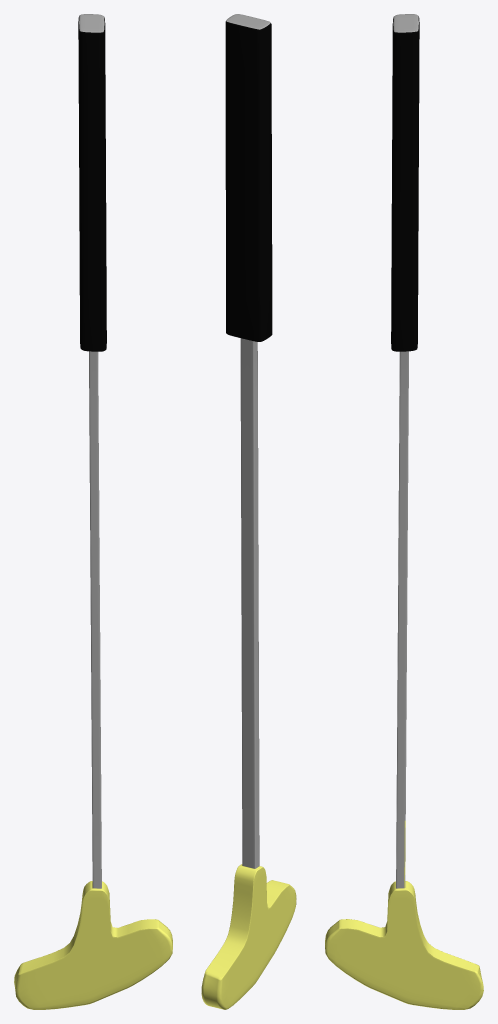
File: GolfClubYellow.fbx
3 views of the same model, side by side, from view 1: azimuth 90°, elevation 25°; view 2: azimuth 150°, elevation 25°; view 3: azimuth 270°, elevation 25° (orthographic).
Visible parts, largest first — view 1: pCube2; view 2: pCube2; view 3: pCube2.
Part boxes in pixels (bbox=[...]): pCube2: bbox=[14, 14, 172, 1009]; pCube2: bbox=[201, 14, 296, 1009]; pCube2: bbox=[325, 14, 483, 1009].
Bounding box in the file's own units: 2.17 × 51.65 × 7.56.
